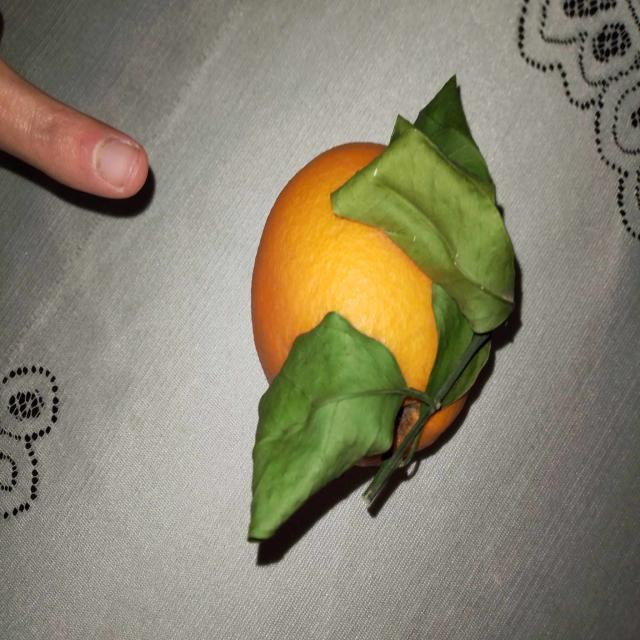Finger: (28, 77, 156, 215)
Orange: (239, 88, 519, 544)
